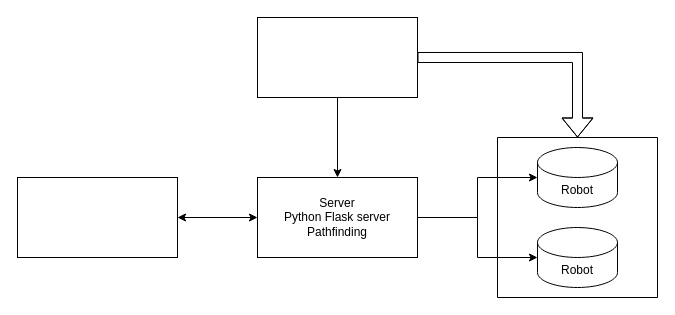
Image size: 675x315. Some labels were removed from this diagram. The box of each missing label's shape, as (x1, y1, x2, y2) in pixels:
Camera Robot tracking Color detection: (256, 16, 418, 98)
Simulation Webots: (16, 176, 178, 258)
